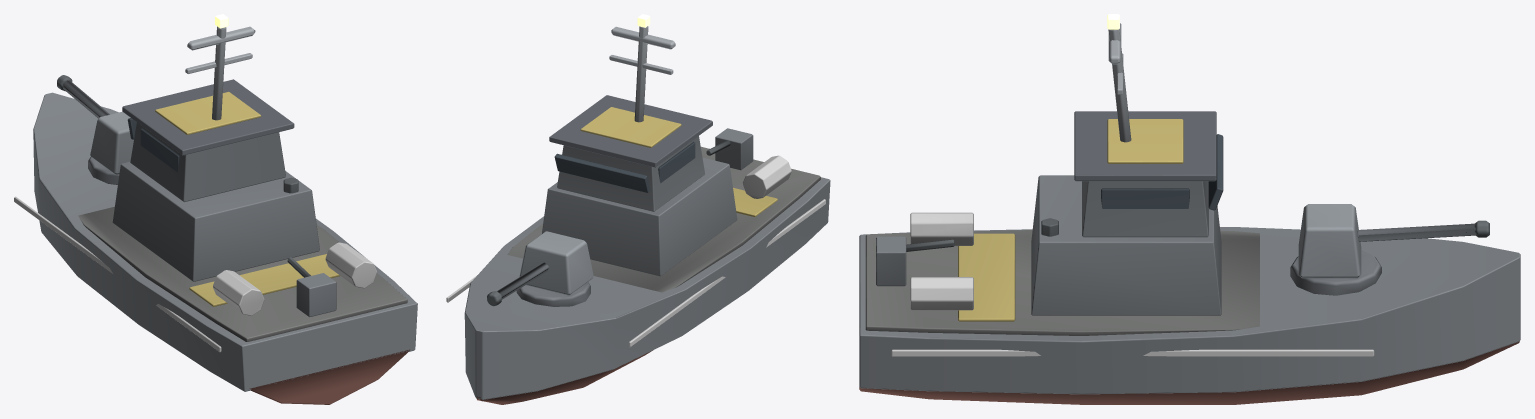
File: patrol_boat.glb
The picture shows the model from 3 angles, left to right: view 1: azimuth 30°, elevation 25°; view 2: azimuth 150°, elevation 25°; view 3: azimuth 270°, elevation 25°; orthographic projection. The views are drawn at different scales.
Parts seen in each view (by area): view 1: Body, Turret, Radar; view 2: Body, Turret, Radar; view 3: Body, Turret.
Boxes of the visible parts, x1,y1,x2,y2 form: Body: (14,14,417,404); Turret: (57,75,133,184); Radar: (187,26,255,50); Body: (446,14,830,404); Turret: (487,231,593,306); Radar: (611,26,675,49); Body: (859,14,1520,404); Turret: (1290,204,1489,295).
Bounding box in the file's own units: 2.12 × 3.33 × 5.2.
